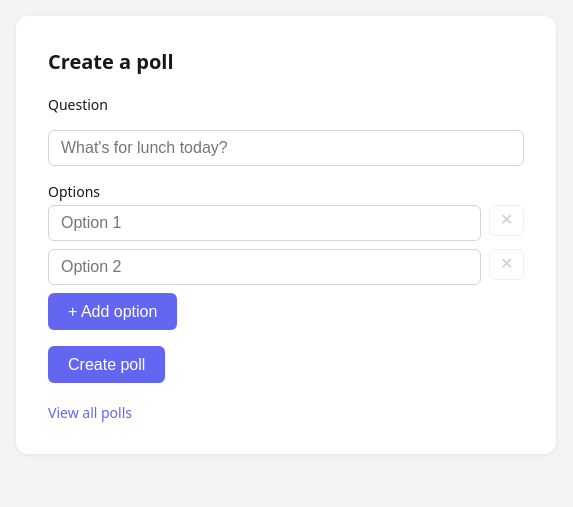
Test case: CreatePollForm › shows an error when submitting with an empty question
Step 1. Click the button "Create poll" → click(107, 365), box [48,346,165,383]
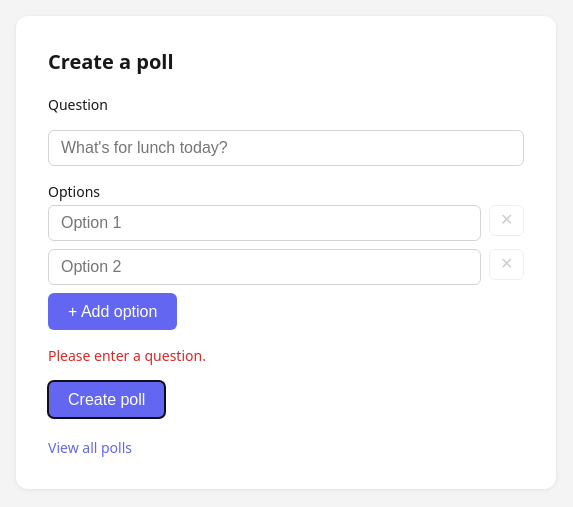
Expected: the text "Please enter a question." is shown, [48,346,206,365]
